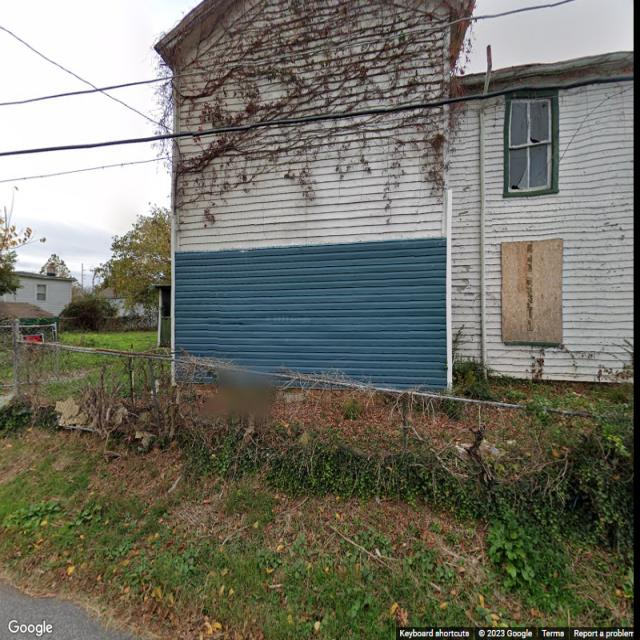House: (155, 0, 635, 413), (0, 270, 76, 332)
